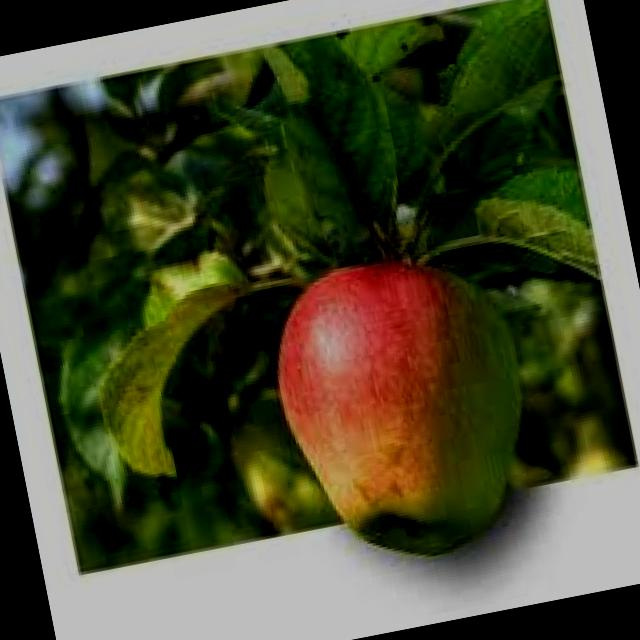Apple: (254, 235, 552, 580)
